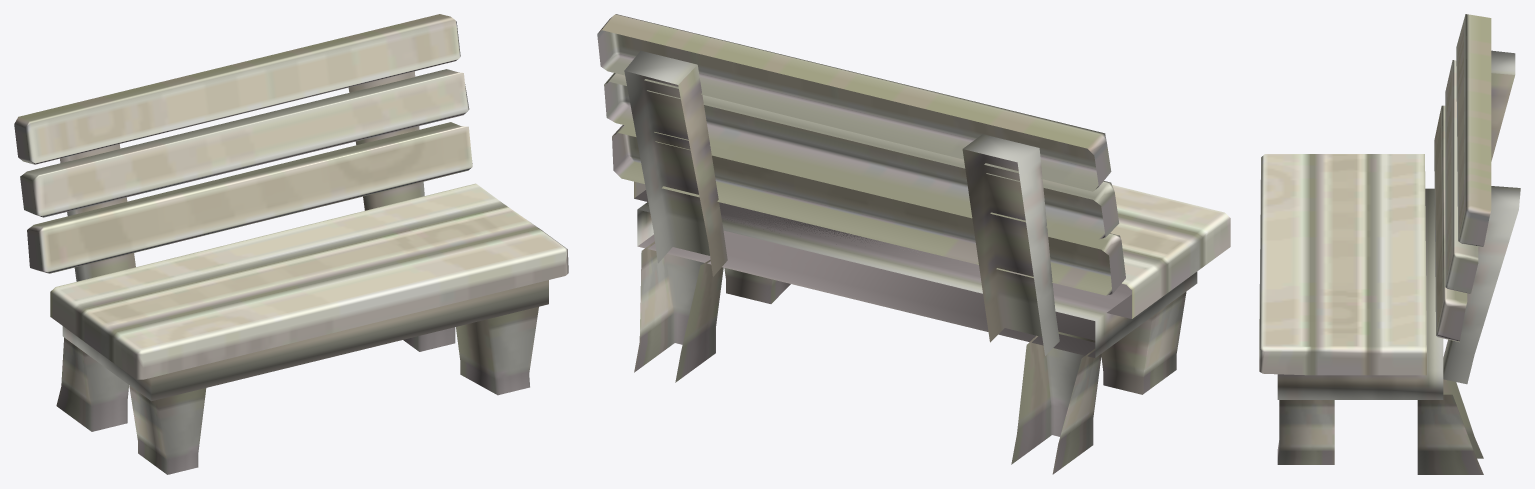
Rendered from fobj_bench_plain.dae.
The picture shows the model from 3 angles, left to right: view 1: azimuth 30°, elevation 25°; view 2: azimuth 150°, elevation 25°; view 3: azimuth 270°, elevation 25°; orthographic projection. The views are drawn at different scales.
Parts seen in each view (by area): view 1: vsn_mesh_0_; view 2: vsn_mesh_0_; view 3: vsn_mesh_0_.
Boxes of the visible parts, box(x1,y1,x2,y2) form: vsn_mesh_0_: box(14, 14, 568, 474); vsn_mesh_0_: box(597, 14, 1230, 474); vsn_mesh_0_: box(1259, 14, 1520, 474).
Bounding box in the file's own units: 57.05 × 37.73 × 31.89.
1 material, 1 textured.
